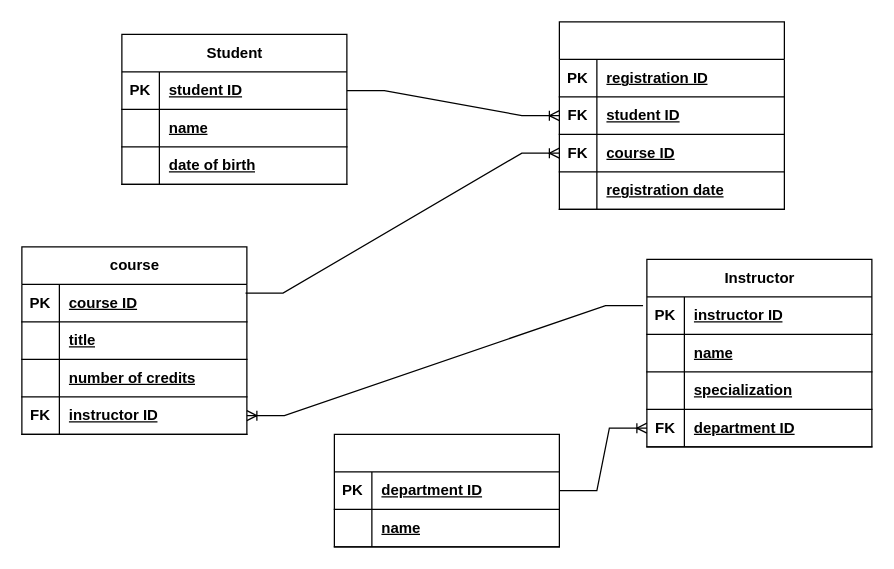
Some shapes in this 894 by 569 pixel diagram are drawn without their labels. Each missing label, with the box of its shape:
Depatment: (333, 433, 559, 547)
Student Registration: (558, 21, 784, 209)
